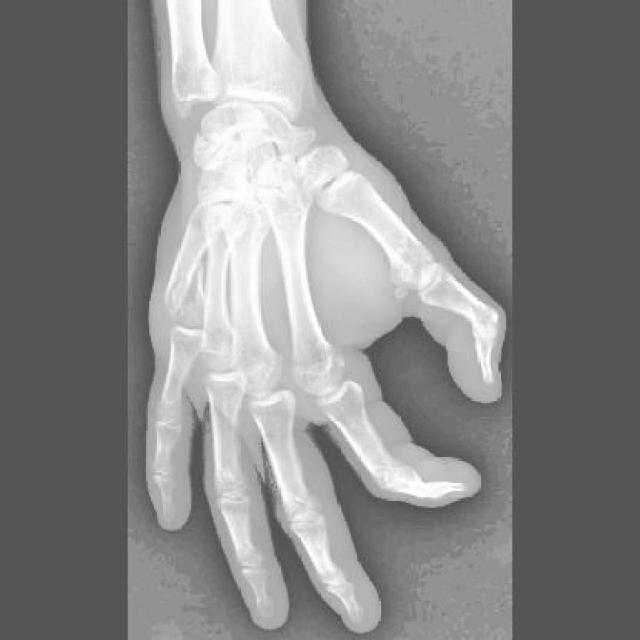Fracture: (165, 260, 210, 329)
